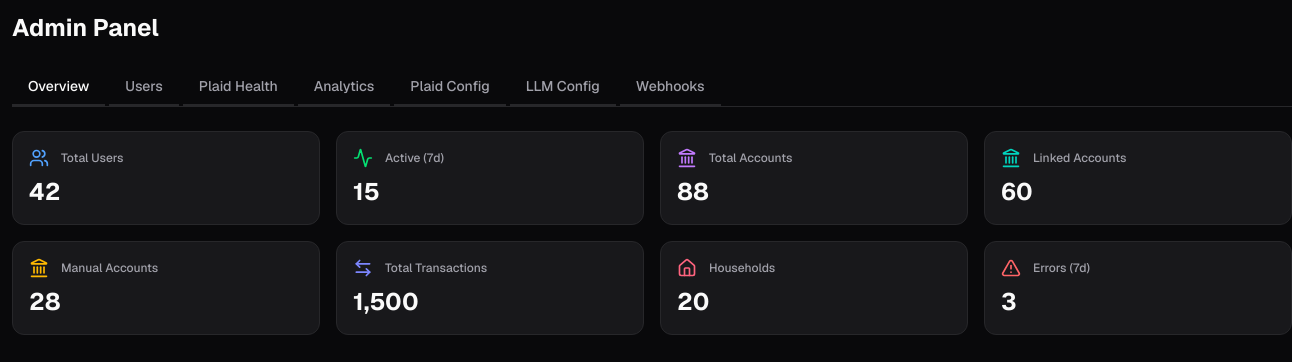
Test case: AdminPage › shows filter badge on users tab when filter is active and can clear it
Click the element with test id "kpi-active-7d": (490, 178) [336, 131, 644, 225]
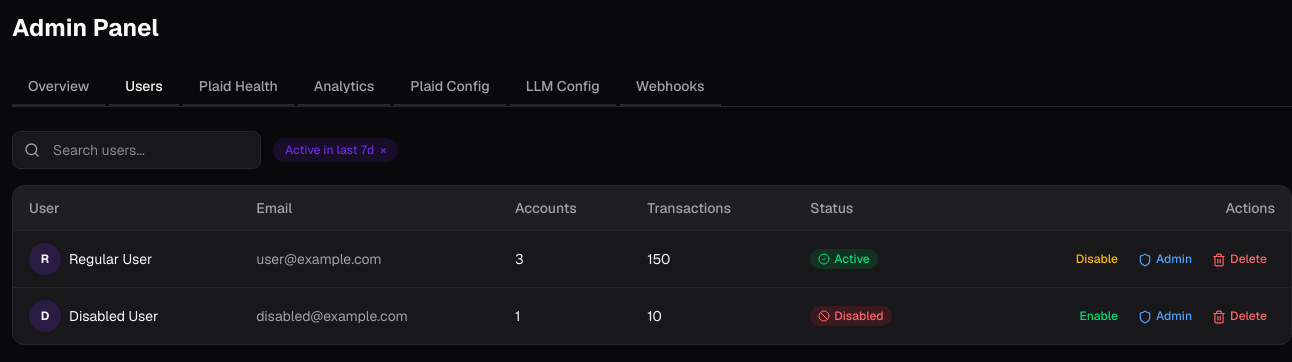
Expected: the element with test id "filter-badge" is shown, [273, 138, 398, 162]
Click the button with test id "clear-filter": (383, 150) [380, 142, 386, 158]
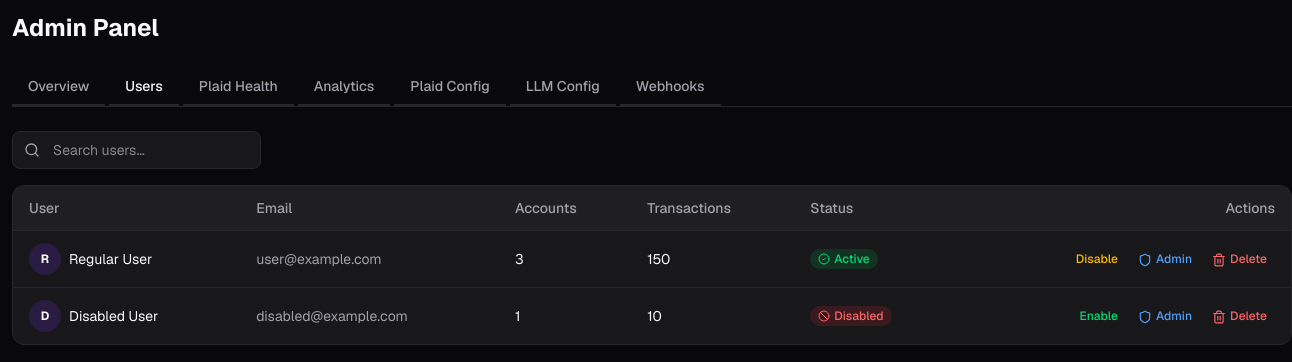
Expected: the element with test id "filter-badge" is gone
